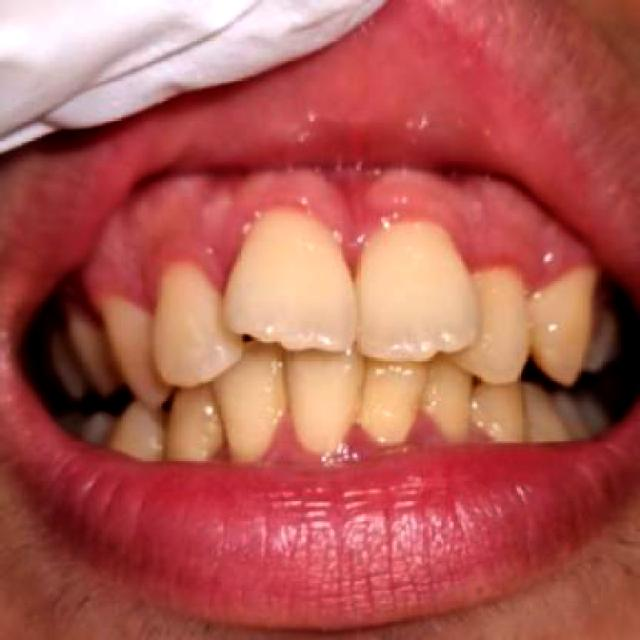Plaque: (80, 170, 592, 312), (258, 410, 325, 464), (331, 424, 387, 463), (404, 413, 448, 445), (207, 442, 233, 460), (467, 420, 492, 438)
